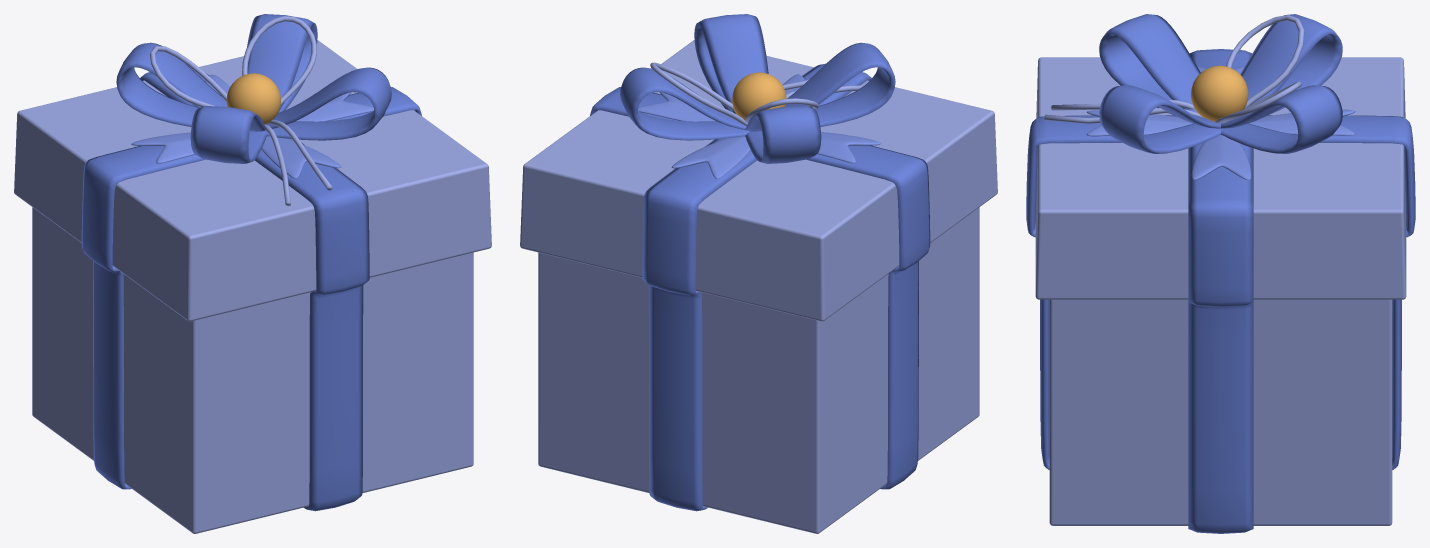
Rendered from GiftBox.glb.
The picture shows the model from 3 angles, left to right: view 1: azimuth 30°, elevation 25°; view 2: azimuth 150°, elevation 25°; view 3: azimuth 270°, elevation 25°; orthographic projection. The views are drawn at different scales.
Visible parts, largest first — view 1: Giftbox01, Giftbox02, Giftbox03, Giftbox04, Giftbox05, Giftbox06; view 2: Giftbox01, Giftbox02, Giftbox03, Giftbox04, Giftbox05, Giftbox06; view 3: Giftbox01, Giftbox02, Giftbox03, Giftbox04, Giftbox05, Giftbox06.
Part boxes in pixels (x1,y1,x2,y2): Giftbox01: (14,40,491,533); Giftbox02: (81,67,421,511); Giftbox03: (116,14,391,163); Giftbox04: (131,74,373,178); Giftbox05: (150,16,332,206); Giftbox06: (226,73,280,124); Giftbox01: (520,40,997,533); Giftbox02: (590,63,930,511); Giftbox03: (620,14,895,163); Giftbox04: (638,74,881,178); Giftbox05: (650,62,864,125); Giftbox06: (732,72,786,120); Giftbox01: (1035,57,1406,525); Giftbox02: (1026,49,1415,533); Giftbox03: (1099,14,1342,153); Giftbox04: (1086,66,1355,179); Giftbox05: (1044,15,1304,123); Giftbox06: (1191,65,1248,121).
Bounding box in the file's own units: 2.27 × 2.66 × 2.27.
